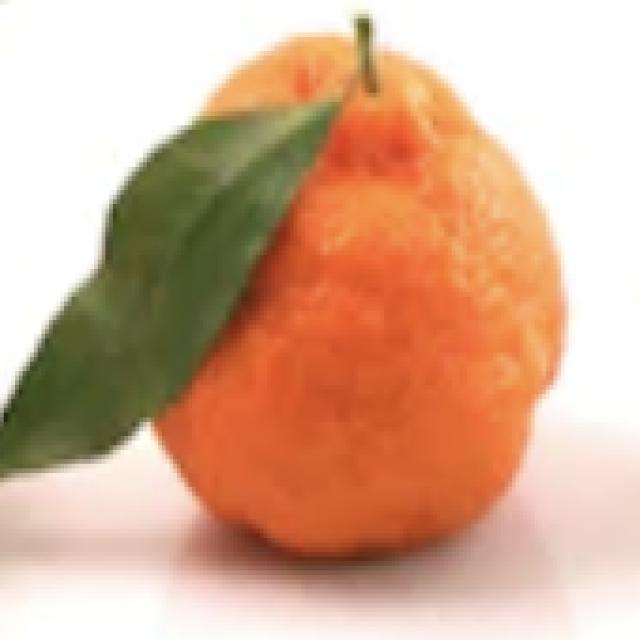orange: (140, 29, 569, 564)
